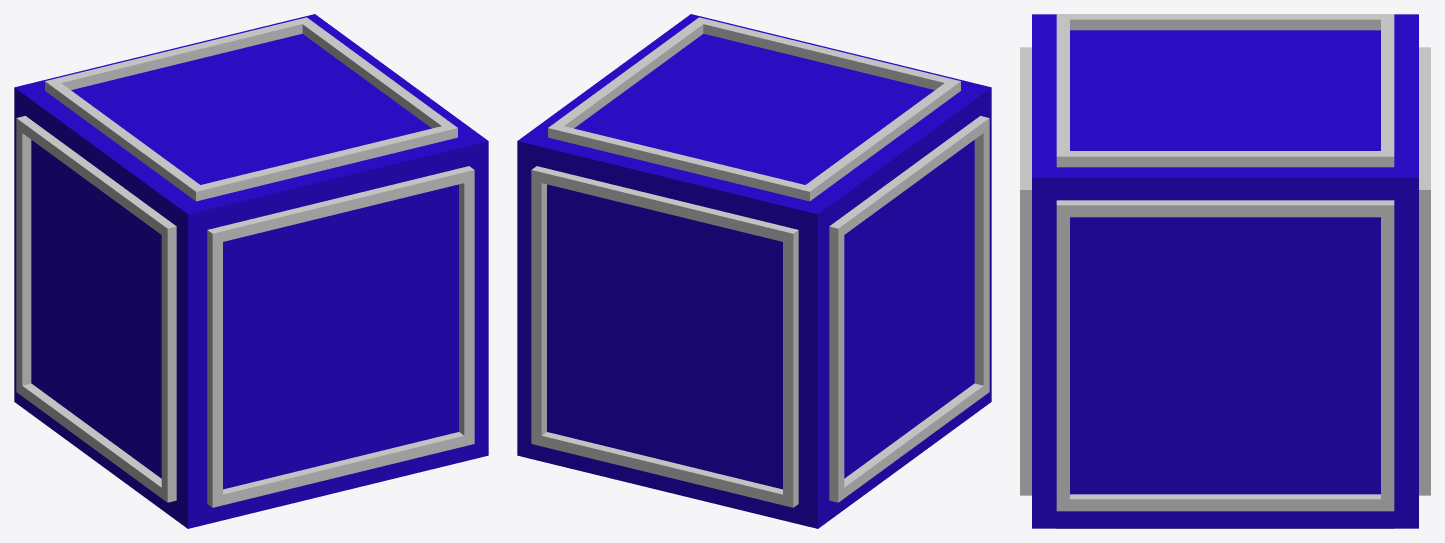
Rendered from CubeLow.fbx.
3 views of the same model, side by side, from view 1: azimuth 30°, elevation 25°; view 2: azimuth 150°, elevation 25°; view 3: azimuth 270°, elevation 25° (orthographic). The views are drawn at different scales.
Visible parts, largest first — view 1: Cube; view 2: Cube; view 3: Cube.
Part boxes in pixels (left/top/right/bottom): Cube: left=14, top=14, right=488, bottom=528; Cube: left=517, top=14, right=991, bottom=528; Cube: left=1020, top=14, right=1430, bottom=528.
Bounding box in the file's own units: 212 × 212 × 212.
